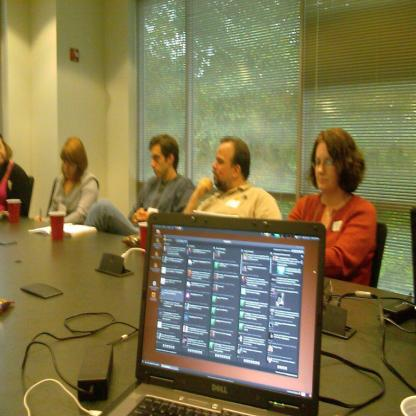board: (126, 218, 334, 412), (50, 209, 66, 239), (8, 198, 22, 226), (139, 221, 149, 254)
